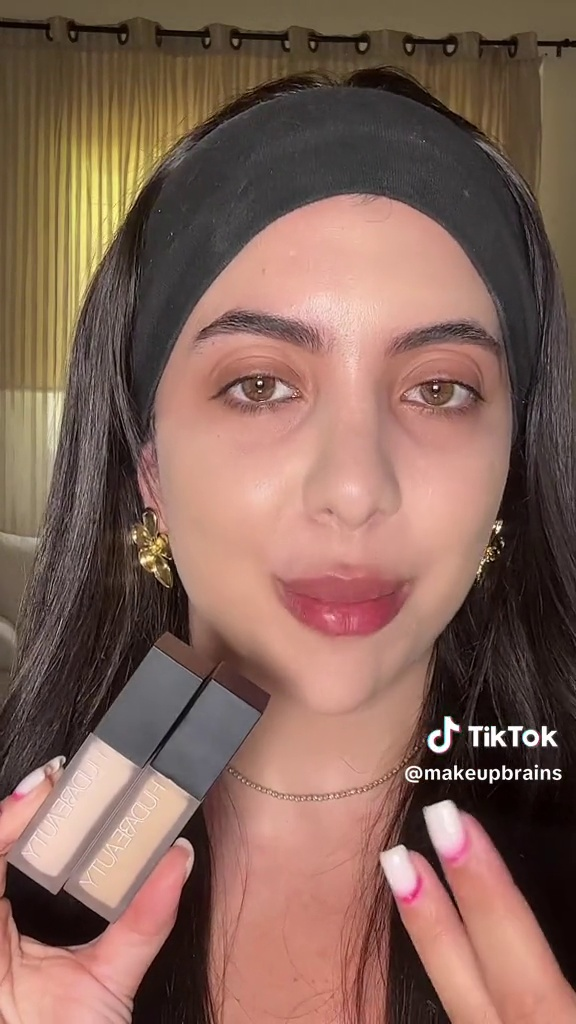train' :'yolo_data/train/images',: (1, 623, 274, 928)
